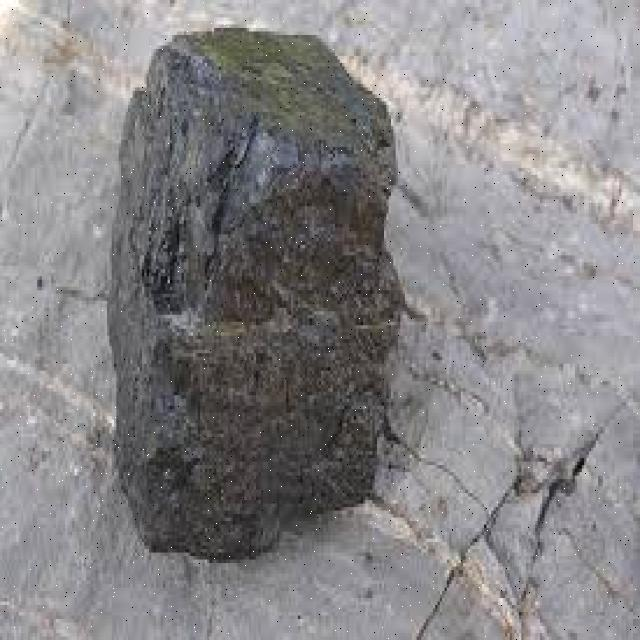Sedimentary: (112, 28, 398, 567)
